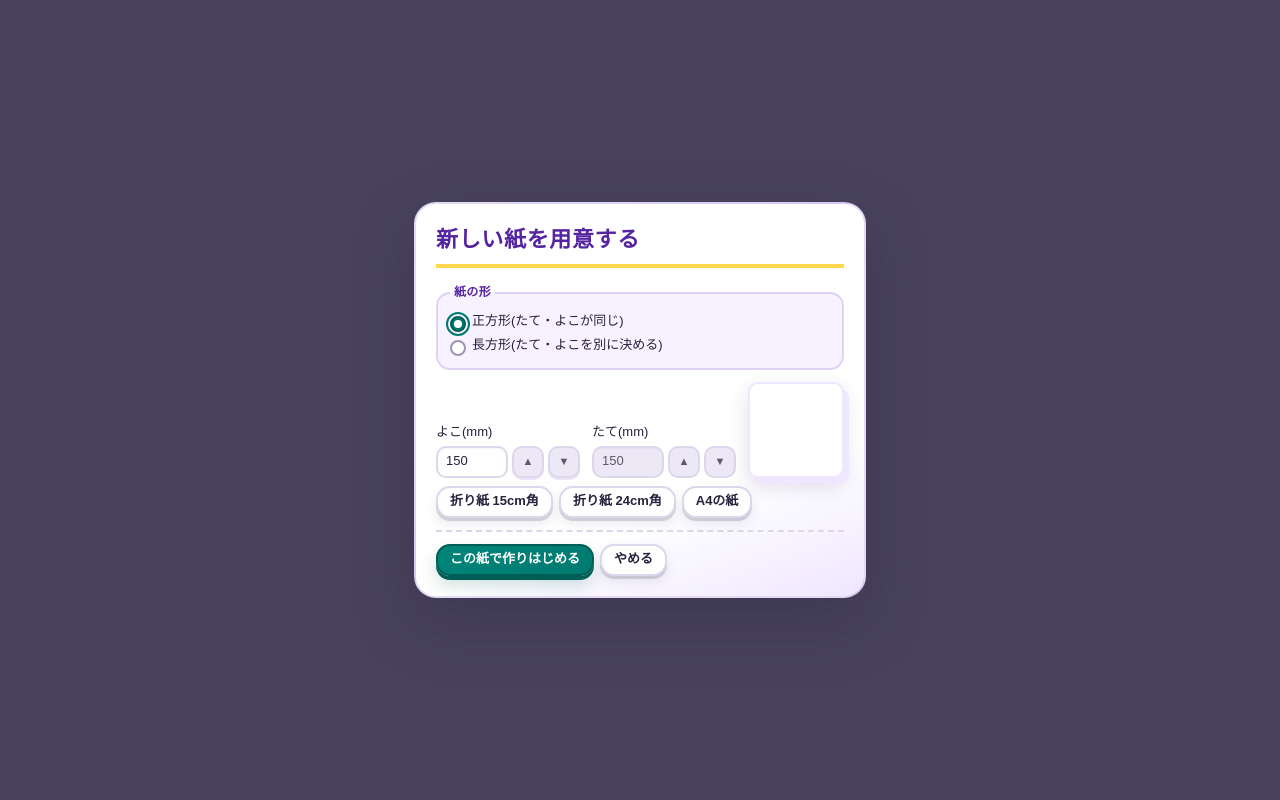
Test: 新規作成ダイアログ › 横の上下ボタンは1mmずつ変わり、正方形では縦の上下ボタンも無効になる
The image size is (1280, 800).
Click the button named "紙の横の長さ（mm）を増やす".
click(528, 462)  # box 512,446 -> 544,478
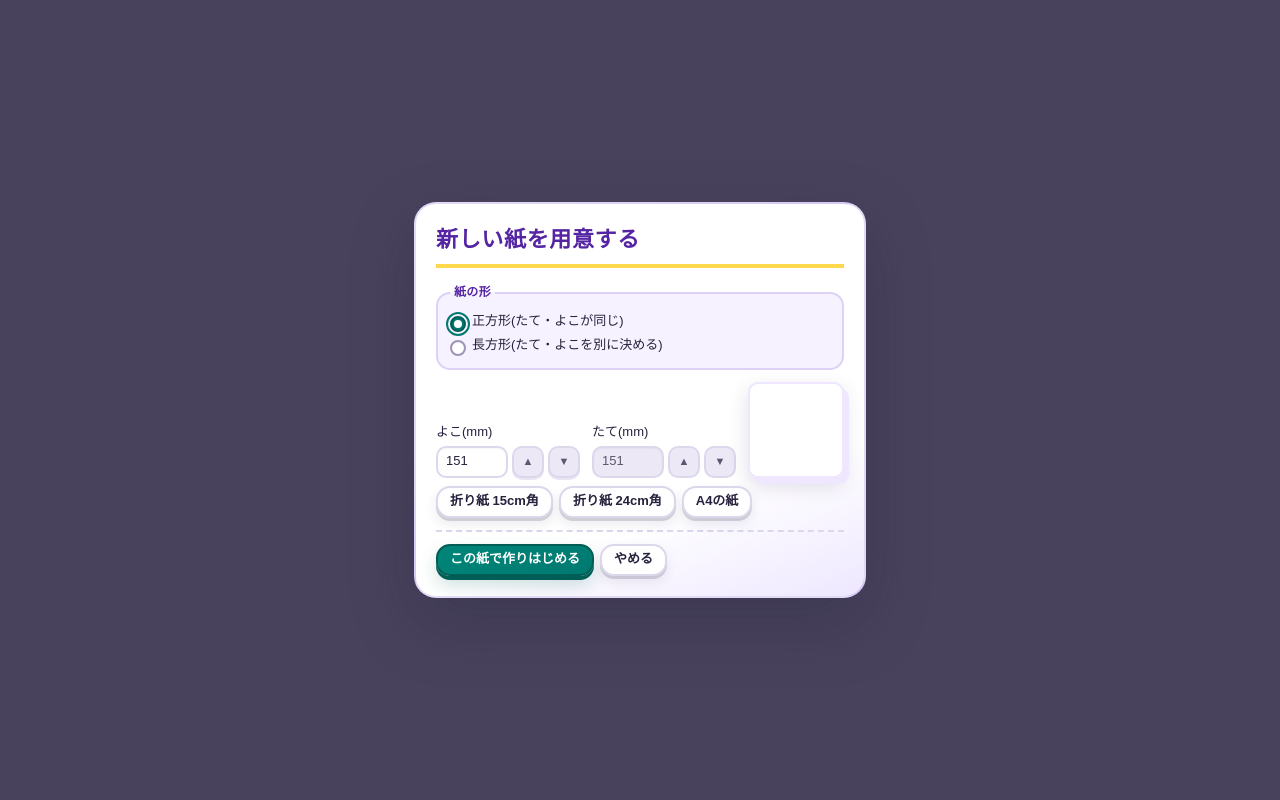
Expected: the number field named "紙の横の長さ（mm）" holds "151", 436,446 -> 508,478
Click the button named "紙の横の長さ（mm）を減らす".
click(564, 462)  # box 548,446 -> 580,478
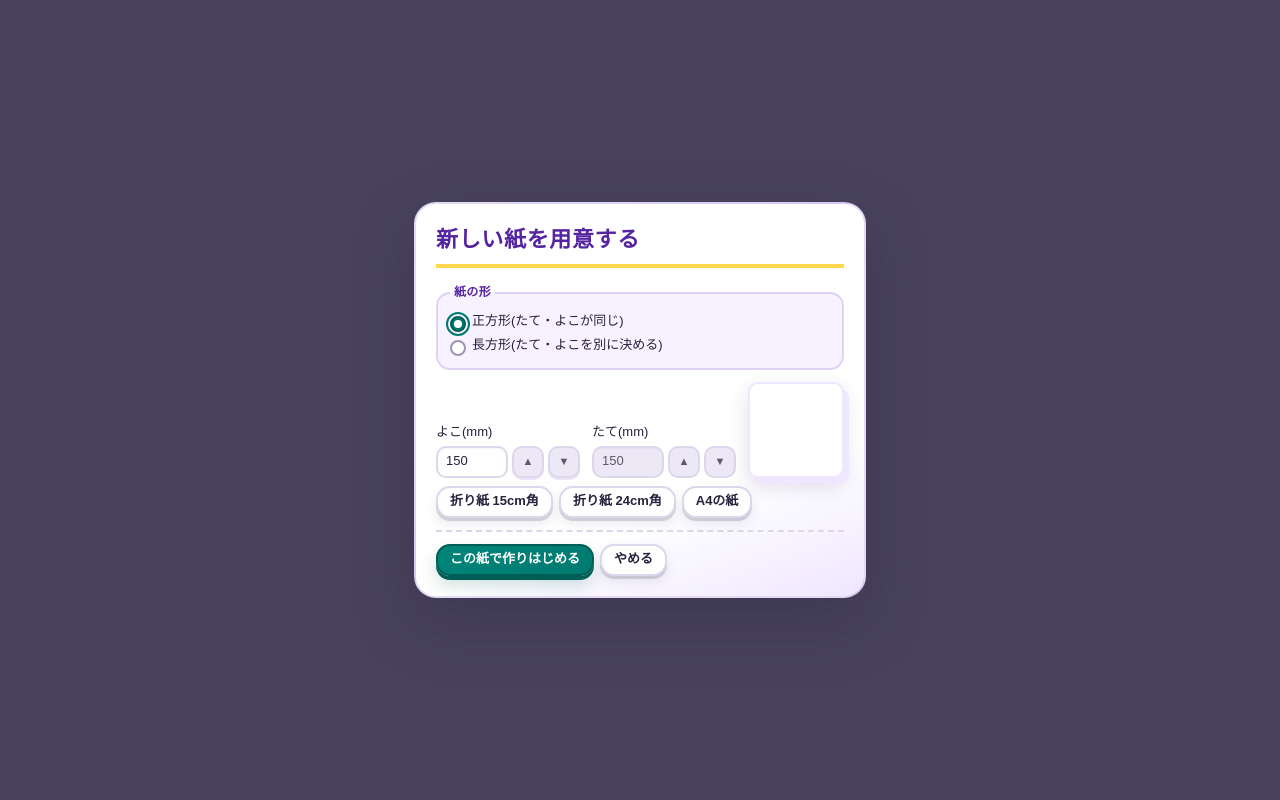
Expected: the button named "紙の縦の長さ（mm）を増やす" is disabled, 668,446 -> 700,478
Expected: the number field named "紙の横の長さ（mm）" holds "150", 436,446 -> 508,478
